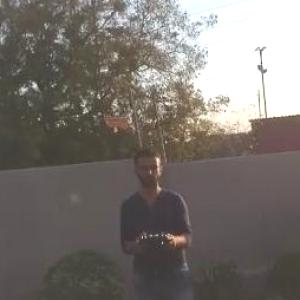follow: (113, 138, 201, 299)
